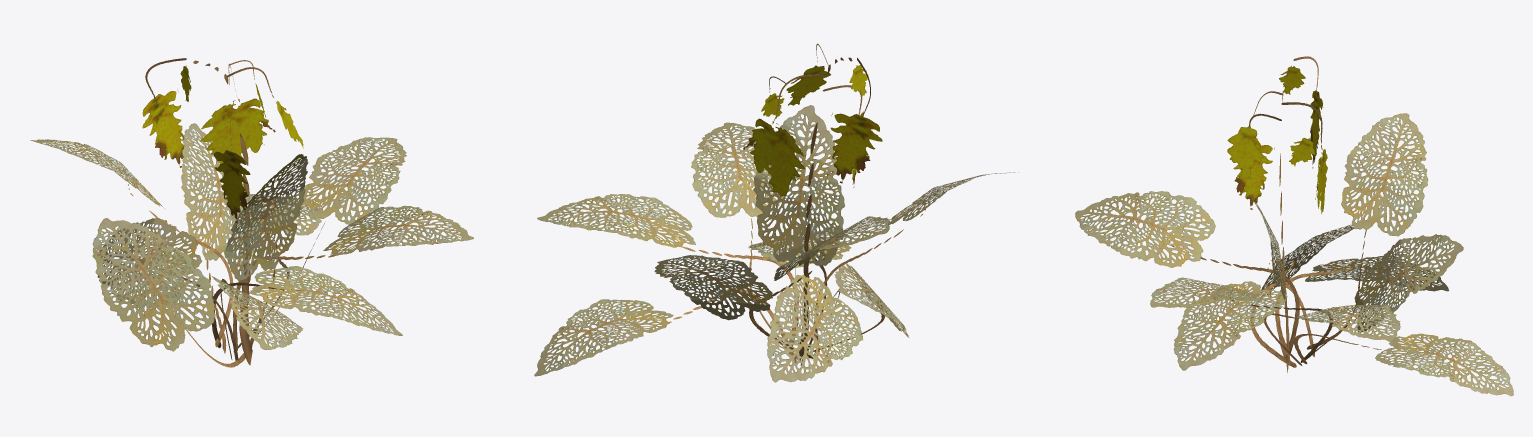
Rendered from Spin Reef A7.fbx.
3 views of the same model, side by side, from view 1: azimuth 30°, elevation 25°; view 2: azimuth 150°, elevation 25°; view 3: azimuth 270°, elevation 25° (orthographic). The views are drawn at different scales.
Parts seen in each view (by area): view 1: Spin Reef A7; view 2: Spin Reef A7; view 3: Spin Reef A7.
Boxes of the visible parts, x1,y1,x2,y2 form: Spin Reef A7: (30, 58, 473, 367); Spin Reef A7: (534, 43, 1018, 382); Spin Reef A7: (1075, 56, 1513, 396).
Bounding box in the file's own units: 194 × 206 × 220.
